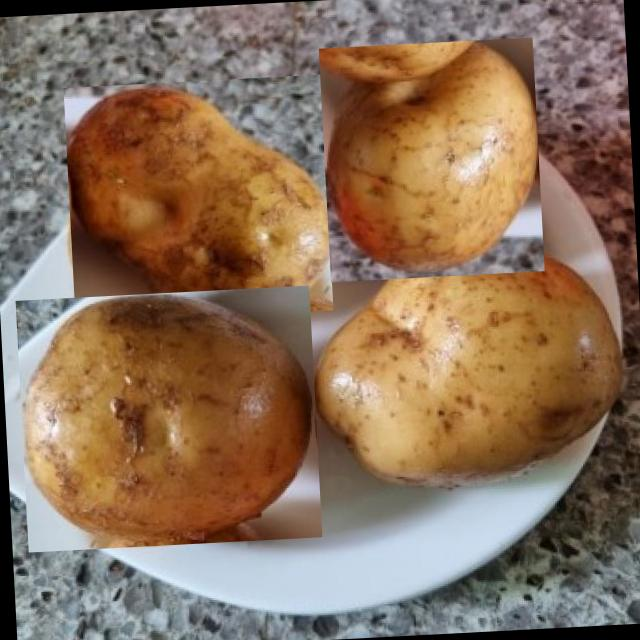Potato: (306, 227, 630, 494), (15, 284, 322, 552), (62, 74, 332, 322), (317, 36, 544, 282)
